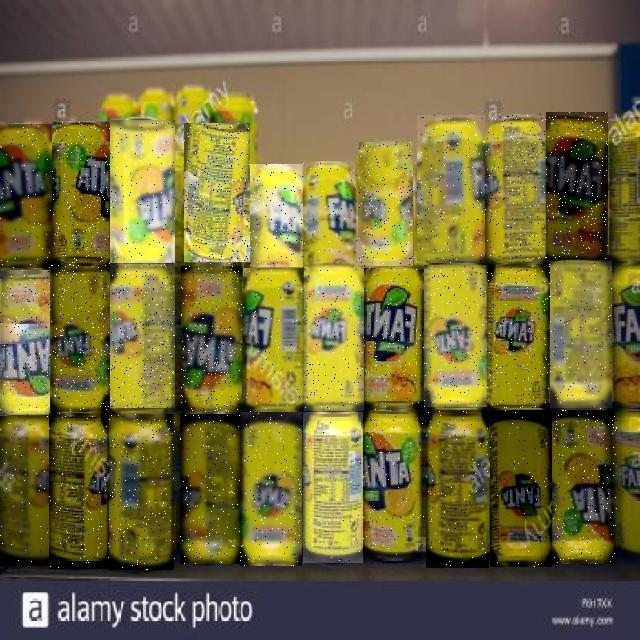Drinks: (110, 415, 176, 571), (552, 411, 618, 565), (417, 115, 485, 263), (426, 410, 489, 568), (490, 410, 552, 567), (241, 412, 303, 566), (364, 410, 426, 564), (184, 124, 250, 266), (303, 412, 365, 563), (110, 264, 175, 408), (49, 413, 109, 569), (180, 414, 242, 564), (110, 120, 175, 263), (485, 115, 547, 263), (547, 112, 609, 260), (550, 262, 612, 410), (424, 265, 488, 407), (487, 264, 550, 408), (243, 268, 305, 412), (181, 266, 242, 412), (50, 266, 110, 412), (305, 269, 365, 411), (365, 268, 425, 410), (53, 122, 111, 266), (0, 124, 52, 268), (0, 270, 51, 415), (0, 416, 49, 566), (359, 142, 413, 266), (304, 162, 360, 270), (250, 164, 304, 267)
